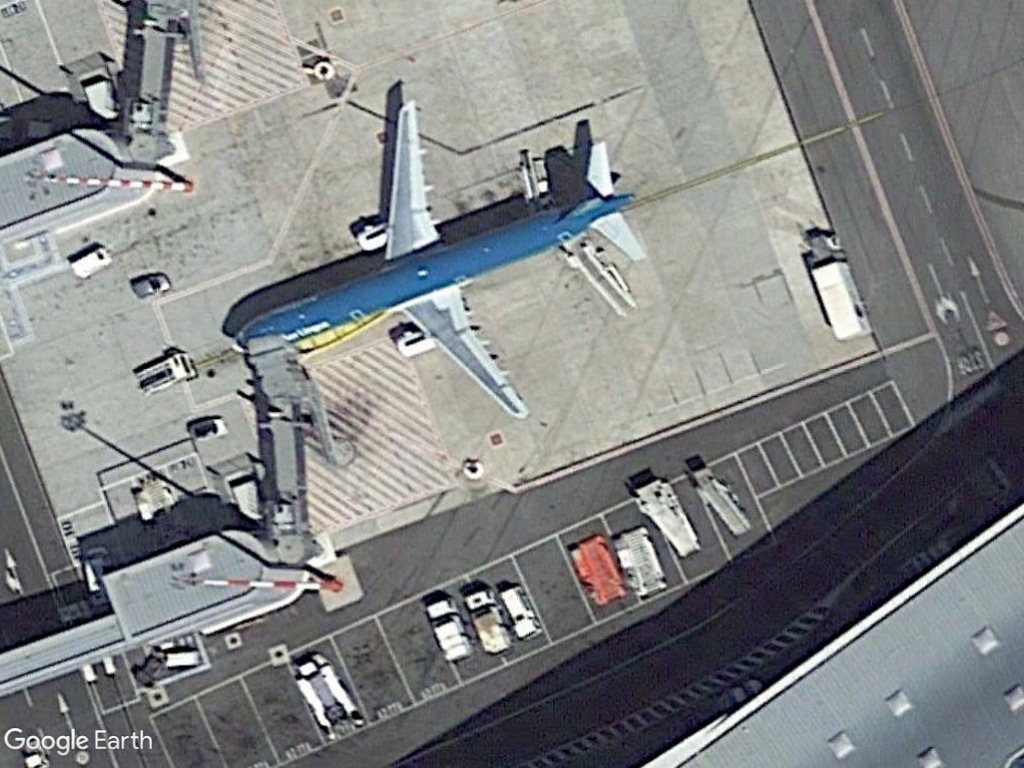airliner: (218, 90, 648, 430)
car: (128, 271, 174, 300)
other: (128, 351, 200, 396), (497, 584, 543, 639), (64, 245, 116, 281)
pushbacktruck: (289, 652, 370, 741)
stairtruck: (624, 474, 703, 555), (686, 467, 755, 536)
truck: (797, 229, 871, 343), (418, 594, 472, 665), (459, 584, 512, 655)
